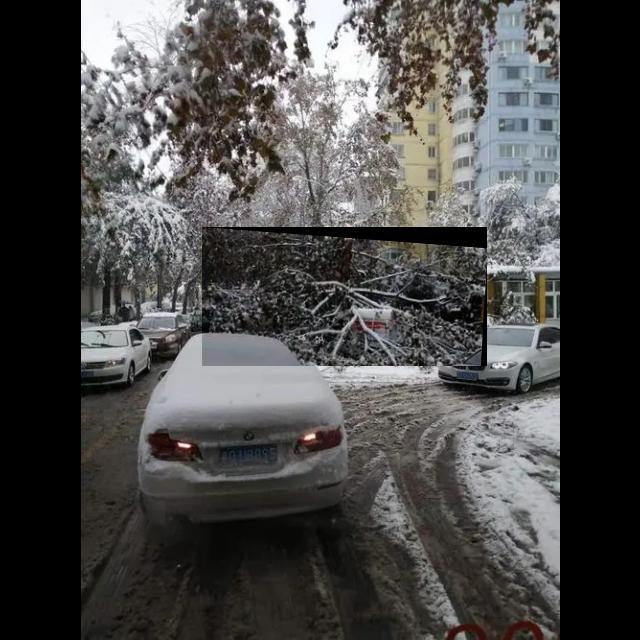fallen_tree: (202, 227, 488, 367)
